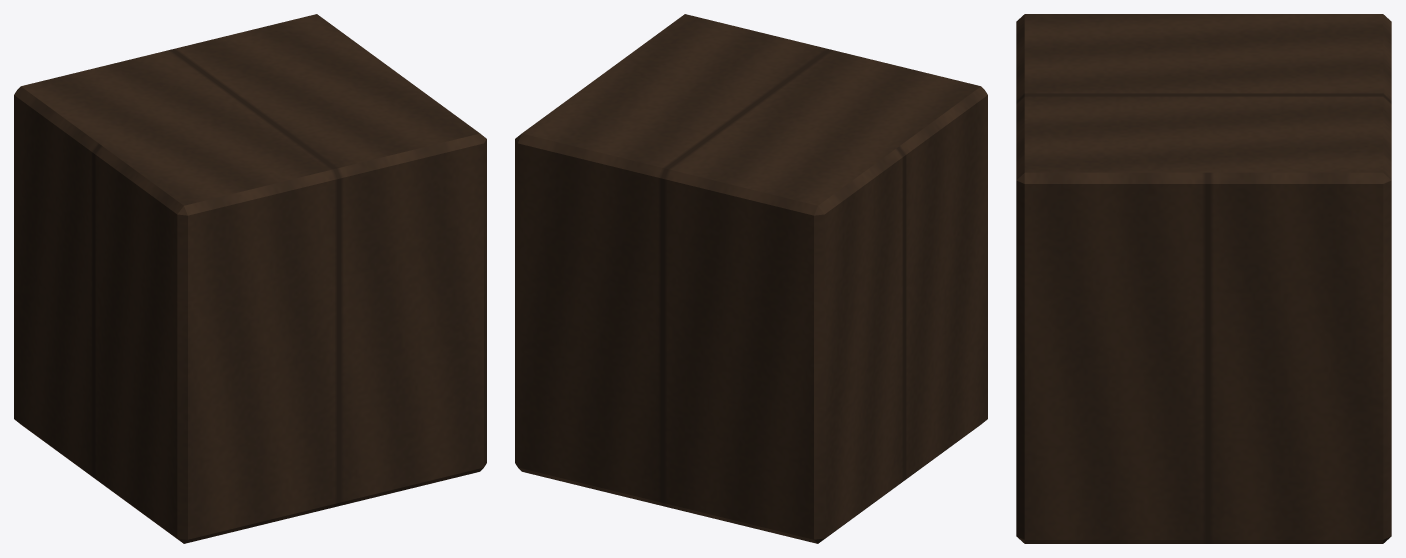
The model's file is crate.glb.
3 renders of one model, left to right at view 1: azimuth 30°, elevation 25°; view 2: azimuth 150°, elevation 25°; view 3: azimuth 270°, elevation 25°, orthographic. The views are drawn at different scales.
Parts seen in each view (by area): view 1: ASSET_crate; view 2: ASSET_crate; view 3: ASSET_crate.
Boxes of the visible parts, box(x1,y1,x2,y2) form: ASSET_crate: box(14, 14, 486, 543); ASSET_crate: box(515, 14, 987, 543); ASSET_crate: box(1016, 14, 1391, 543).
Size of the model in its own units: 1.15 by 1.2 by 1.1.
1 material, 1 textured.
